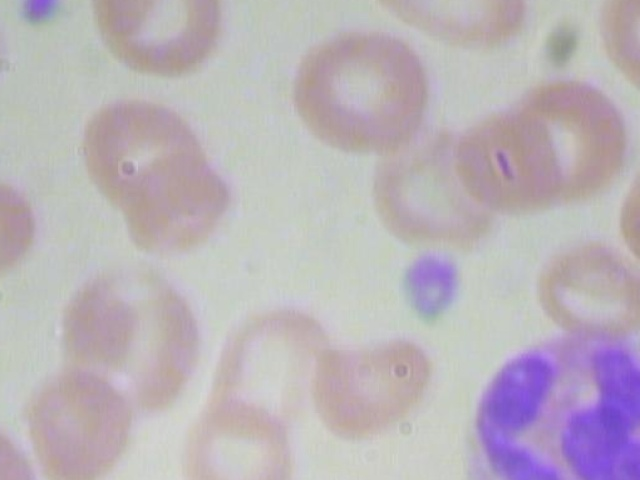Platelets: (384, 244, 472, 340), (6, 0, 73, 33), (0, 94, 9, 152)
RBC: (64, 257, 210, 415), (278, 23, 433, 167), (2, 358, 145, 480), (76, 90, 215, 212), (507, 69, 628, 209), (305, 324, 436, 442), (79, 0, 244, 80), (523, 233, 640, 338), (120, 144, 235, 246), (455, 105, 561, 214), (177, 394, 300, 480), (352, 0, 543, 48), (0, 165, 43, 290), (0, 401, 39, 480), (0, 0, 4, 121)
WBC: (458, 322, 640, 480)
